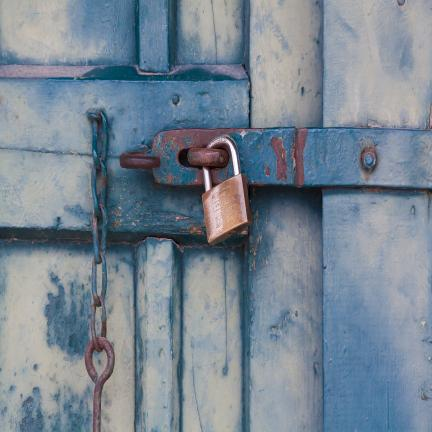karat: (157, 128, 236, 166), (85, 337, 114, 431), (293, 127, 307, 186), (270, 137, 288, 182), (120, 151, 160, 169)
